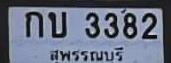2: (141, 12, 156, 38)
3: (84, 11, 99, 37), (103, 12, 118, 37)
8: (122, 12, 136, 38)
A01: (24, 10, 42, 37)
A26: (47, 10, 66, 37)
SPB: (45, 44, 126, 63)
